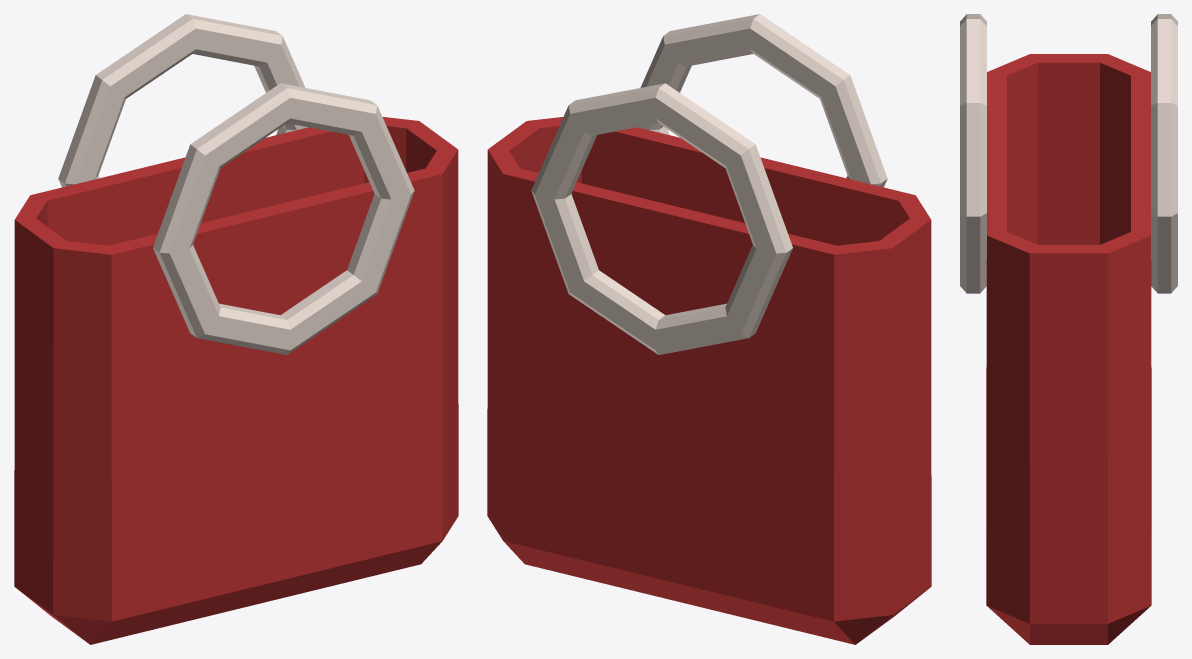
Rendered from Bag.fbx.
The picture shows the model from 3 angles, left to right: view 1: azimuth 30°, elevation 25°; view 2: azimuth 150°, elevation 25°; view 3: azimuth 270°, elevation 25°; orthographic projection.
Parts seen in each view (by area): view 1: Bag; view 2: Bag; view 3: Bag.
Boxes of the visible parts, x1,y1,x2,y2 form: Bag: (14,14,458,644); Bag: (487,14,931,644); Bag: (960,14,1177,644).
Bounding box in the file's own units: 36.17 × 16.67 × 45.98.
